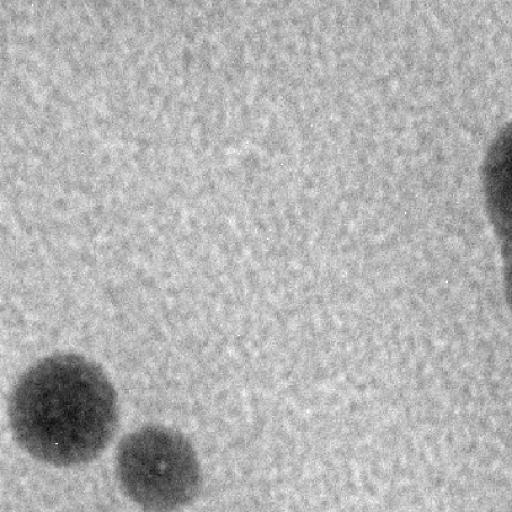Nanoparticles: (6, 348, 121, 469), (114, 424, 204, 512), (480, 120, 512, 306)
